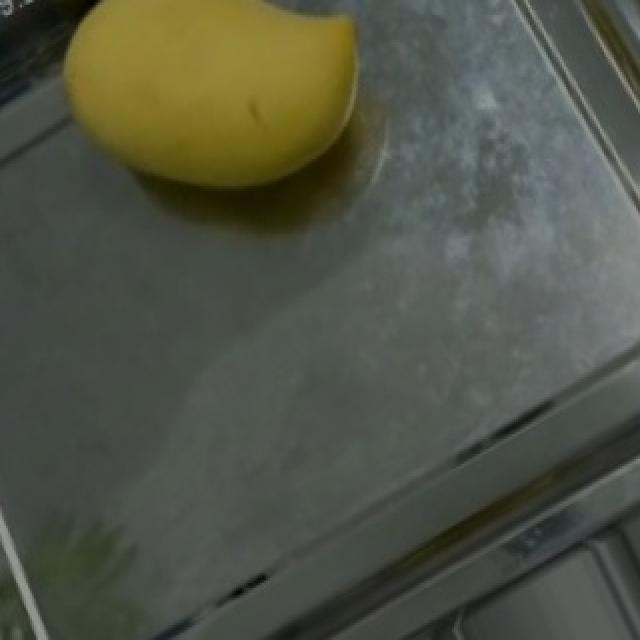fruit: (34, 0, 414, 238)
